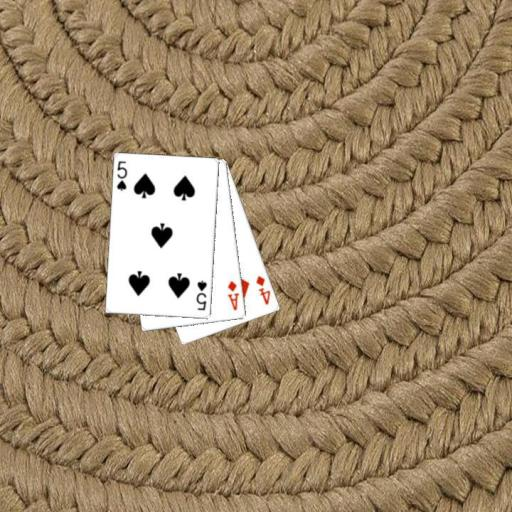4D: (254, 273, 273, 307)
5S: (194, 278, 209, 313), (114, 158, 129, 193)
AD: (225, 278, 240, 312)
